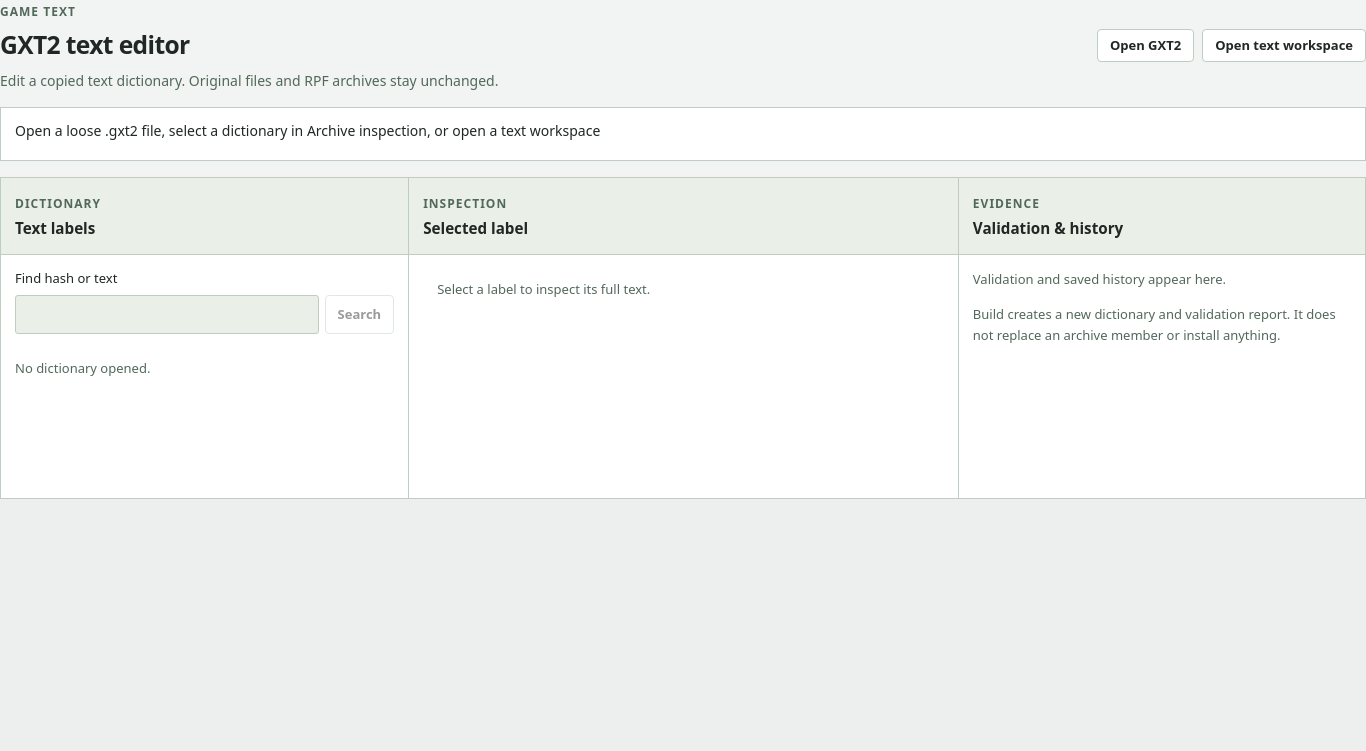
Test: rejects malformed package evidence before enabling confirmation
Click the button "Open text workspace" at (1284, 45), box x1=1202 y1=29 x2=1365 y2=62
(page scrolled)
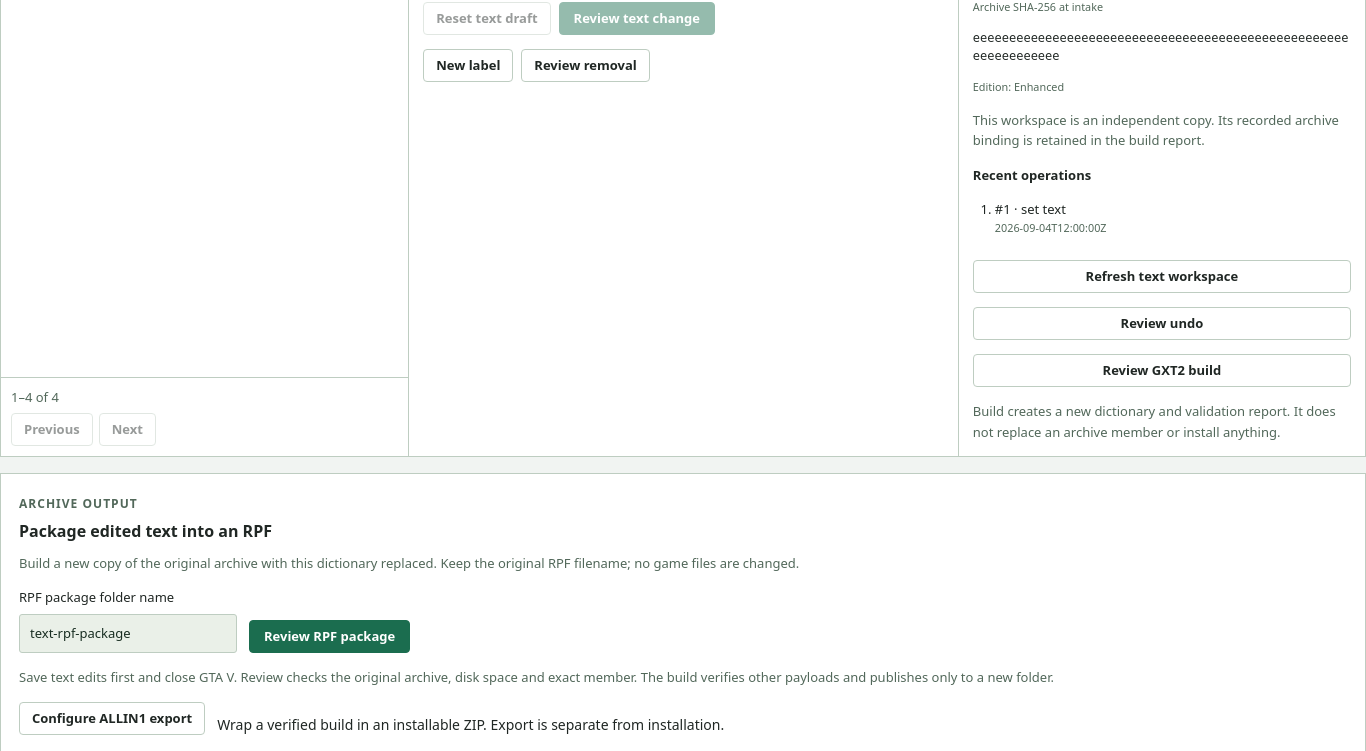
Click the button "Review RPF package" at (330, 637), box x1=249 y1=620 x2=410 y2=653
(page scrolled)
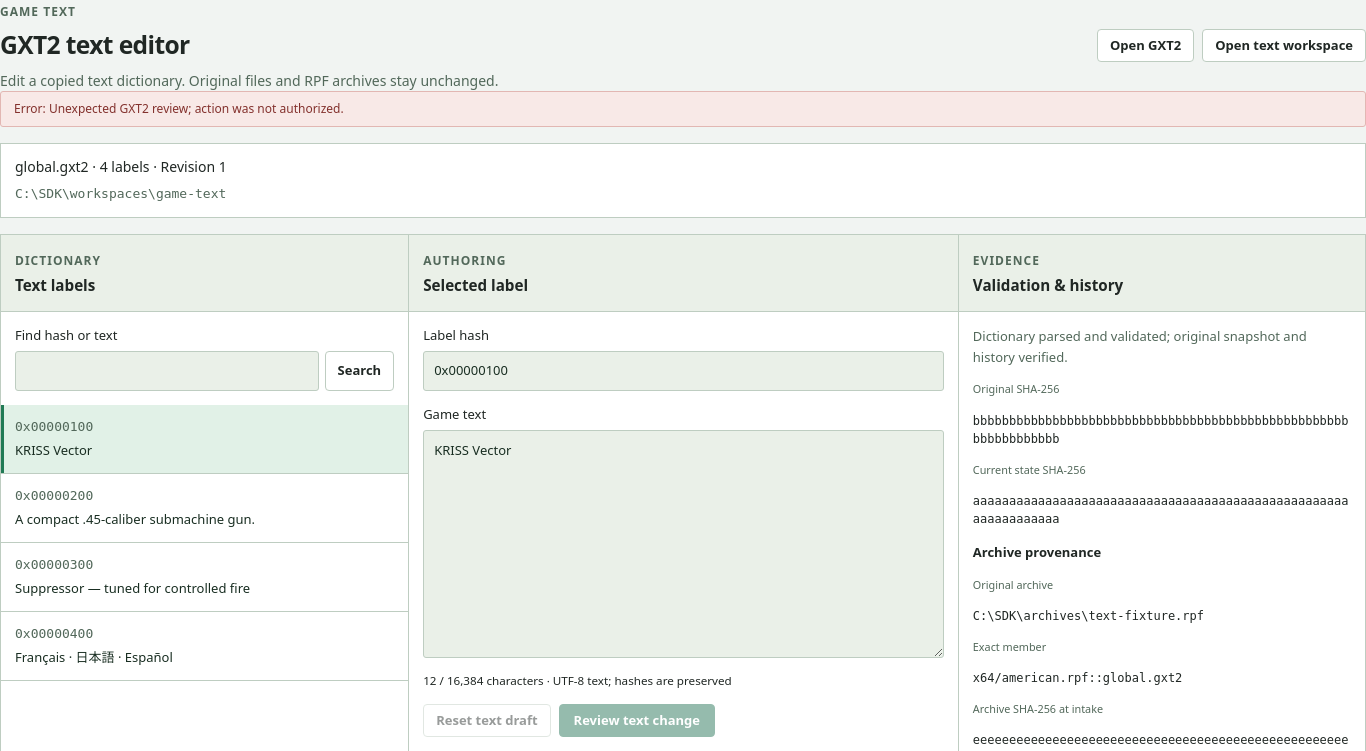
Expected: the message shows "Unexpected GXT2 review", x1=14 y1=100 x2=344 y2=117
